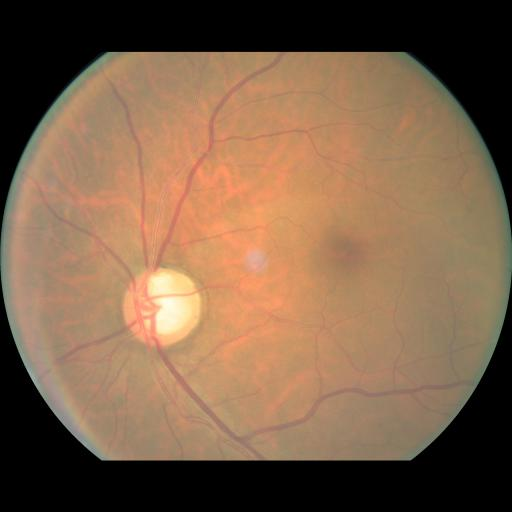Optic Cup: (138, 275, 190, 334)
Optic Disc: (123, 268, 201, 346)
